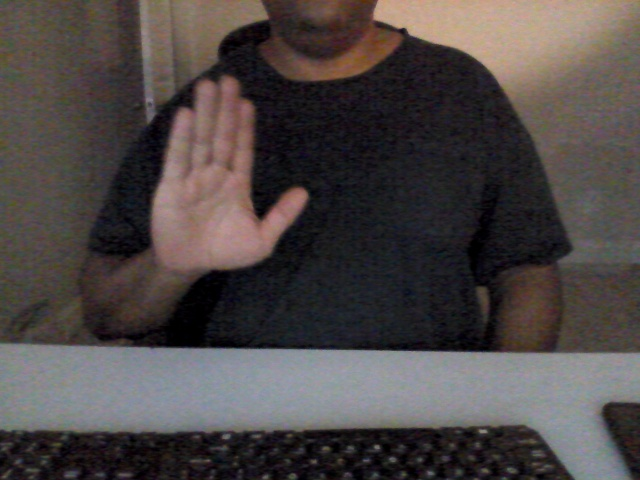hello: (145, 69, 311, 276)
